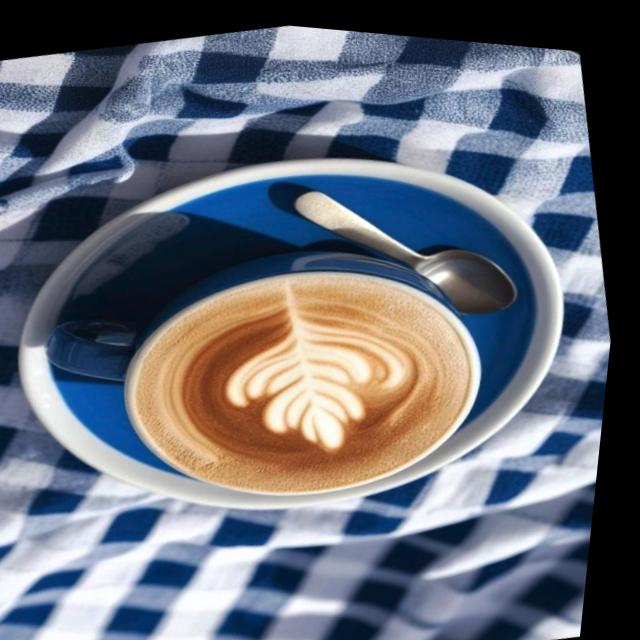drink: (124, 252, 480, 498)
